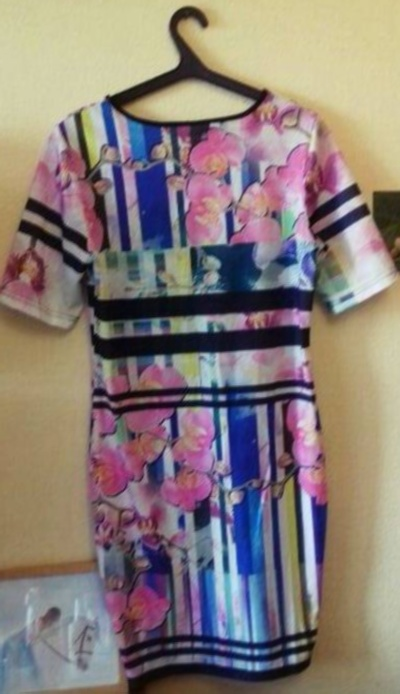Dress: (0, 44, 399, 680)
